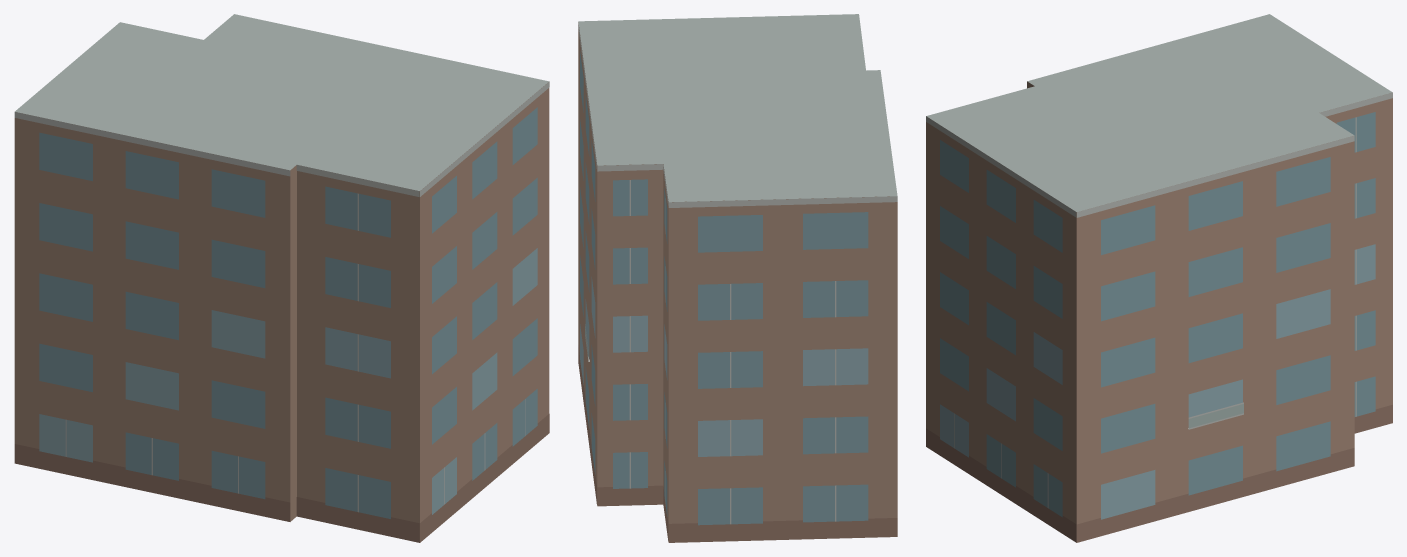
Rendered from survey-upis-32993208.glb.
The picture shows the model from 3 angles, left to right: view 1: azimuth 30°, elevation 25°; view 2: azimuth 150°, elevation 25°; view 3: azimuth 270°, elevation 25°; orthographic projection. The views are drawn at different scales.
Visible parts, largest first — view 1: survey-upis-32993208.tmp; view 2: survey-upis-32993208.tmp; view 3: survey-upis-32993208.tmp.
Part boxes in pixels (left/top/right/bottom): survey-upis-32993208.tmp: left=14, top=14, right=549, bottom=542; survey-upis-32993208.tmp: left=578, top=14, right=897, bottom=542; survey-upis-32993208.tmp: left=926, top=14, right=1392, bottom=542.
Size of the model in its own units: 18.14 by 14.1 by 18.05.
